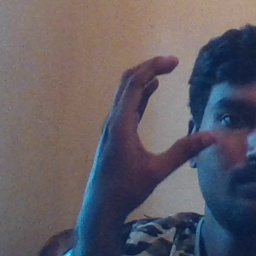C: (92, 47, 222, 183)
